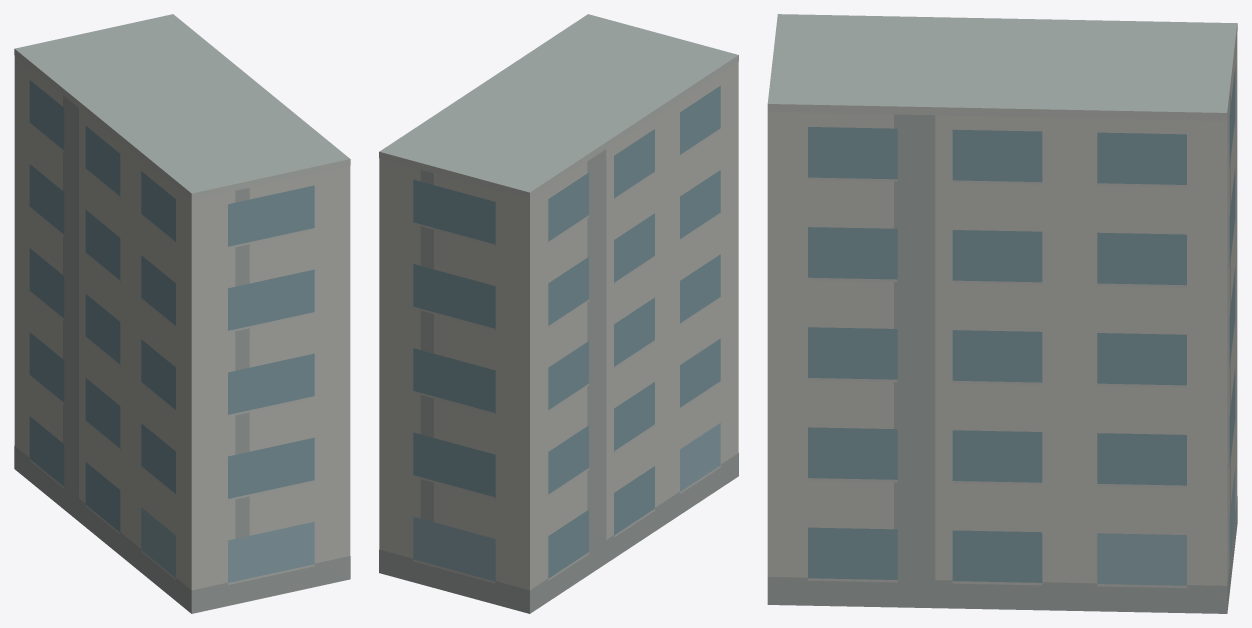
Rendered from residential-c7086a84-c30b-4796-b95d-7b0f48248fd3.glb.
3 views of the same model, side by side, from view 1: azimuth 30°, elevation 25°; view 2: azimuth 150°, elevation 25°; view 3: azimuth 270°, elevation 25° (orthographic). The views are drawn at different scales.
Visible parts, largest first — view 1: residential-c7086a84-c30b-4796-b95d-7b0f48248fd3.tmp; view 2: residential-c7086a84-c30b-4796-b95d-7b0f48248fd3.tmp; view 3: residential-c7086a84-c30b-4796-b95d-7b0f48248fd3.tmp.
Boxes of the visible parts, x1,y1,x2,y2 form: residential-c7086a84-c30b-4796-b95d-7b0f48248fd3.tmp: [14, 14, 350, 613]; residential-c7086a84-c30b-4796-b95d-7b0f48248fd3.tmp: [379, 14, 738, 613]; residential-c7086a84-c30b-4796-b95d-7b0f48248fd3.tmp: [767, 14, 1237, 613].
Size of the model in its own units: 6.47 by 15.25 by 12.97.
